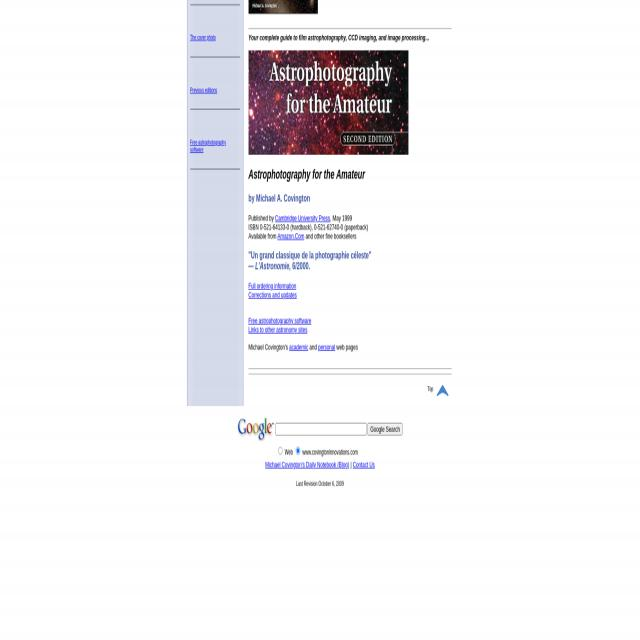button: (248, 50, 408, 154), (248, 0, 318, 17), (238, 417, 274, 441), (368, 423, 402, 435), (437, 385, 448, 396)
field: (276, 423, 366, 435), (278, 447, 282, 455), (296, 447, 300, 455)
